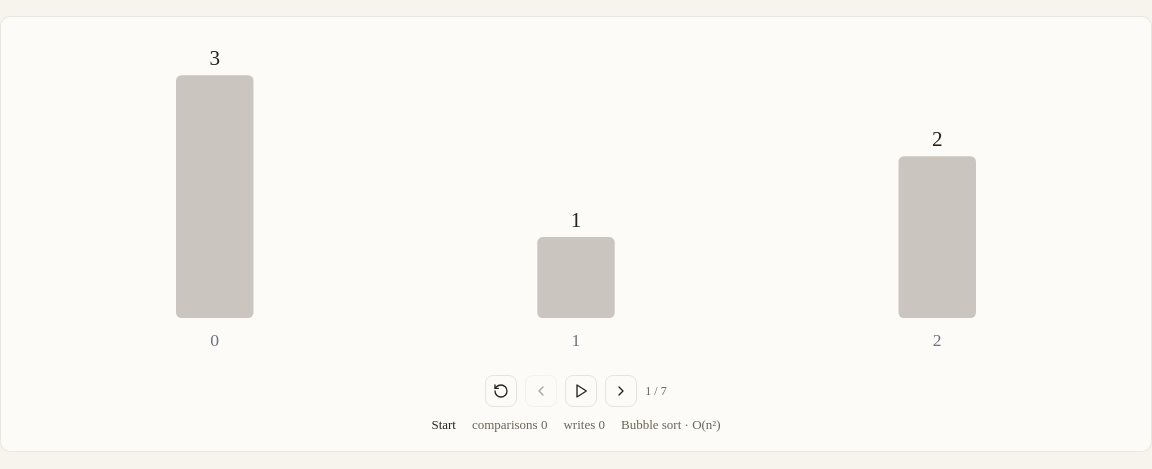
Scenario: algorithm figures › steps through a sort
This screenshot has width=1152, height=469.
Click the button named "Next step": [621, 391] box [605, 375, 637, 407]
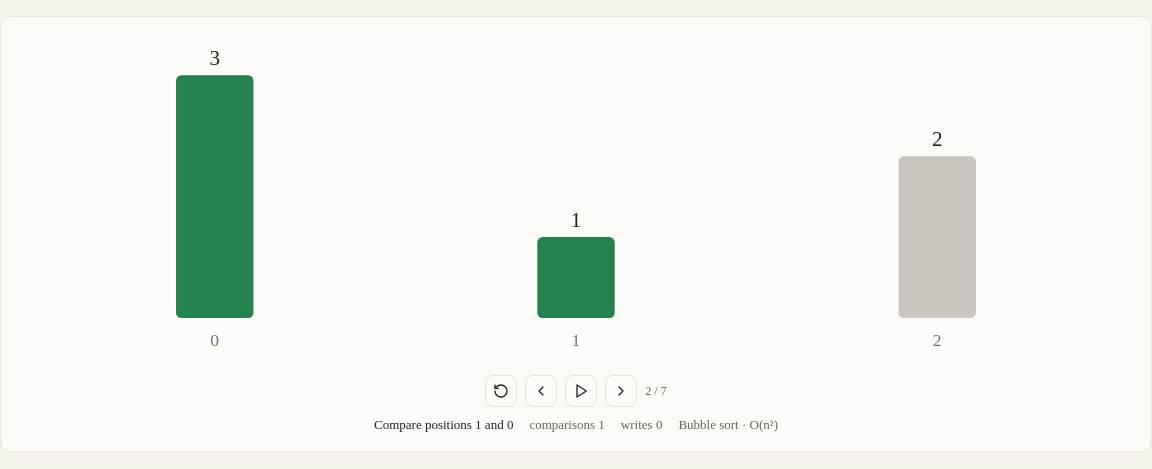
Now the text "Compare positions 1 and 0" is shown, box [374, 415, 513, 435]
